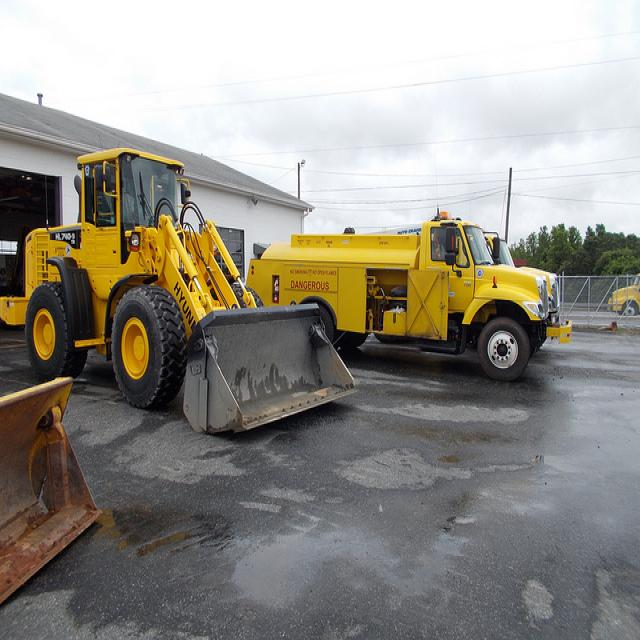Vehicle: (248, 212, 560, 382), (465, 221, 574, 343), (608, 272, 640, 317)
